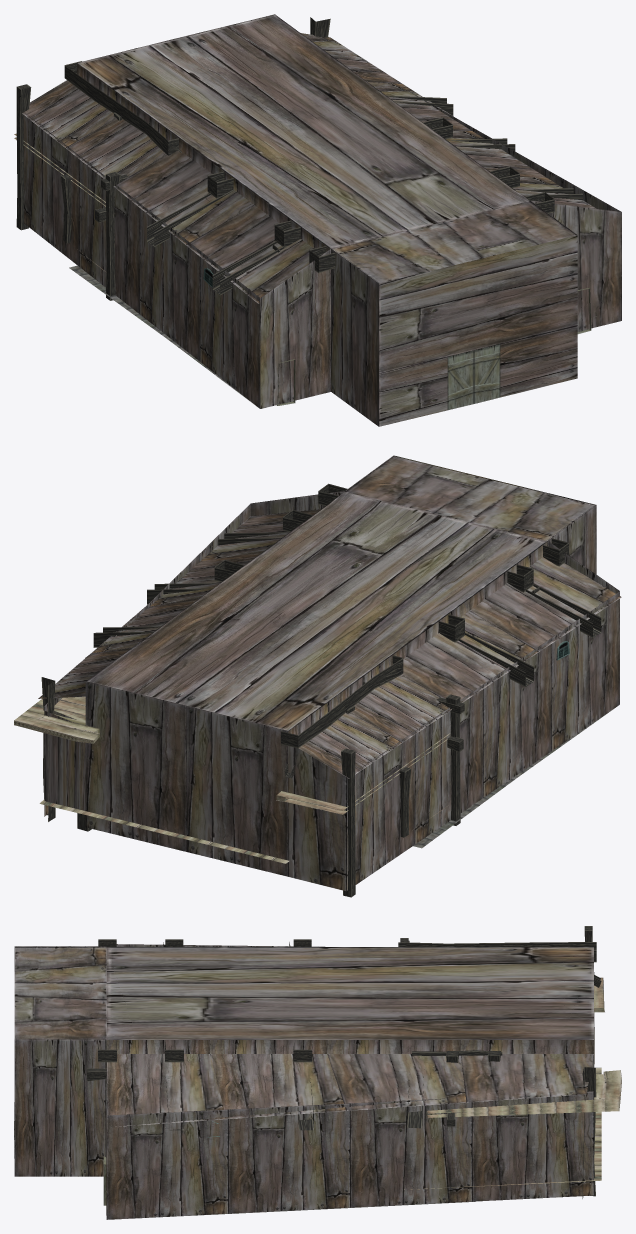
The model's file is interior_shanty_guildhall.fbx.
The picture shows the model from 3 angles, top to bottom: view 1: azimuth 30°, elevation 25°; view 2: azimuth 150°, elevation 25°; view 3: azimuth 270°, elevation 25°; orthographic projection. The views are drawn at different scales.
Parts seen in each view (by area): view 1: ceiling, walls, door_hole, beam14, beam34, beam33, beam17, beam13, beam1, floor, beam38, beam18 (+1 smaller); view 2: ceiling, walls, platform_attic_area, platform_floor_3.001, beam14, beam34, platform_floor_, beam33, beam17, beam13, beam18, beam1 (+4 smaller); view 3: ceiling, walls, platform_floor_3.001, beam14, platform_floor_8, platform_floor_, beam30, beam38, beam1, beam13.
Boxes of the visible parts, <box> form: ceiling: <box>22,15,596,303</box>; walls: <box>23,14,621,426</box>; door_hole: <box>447,344,500,409</box>; beam14: <box>64,61,178,155</box>; beam34: <box>16,84,31,230</box>; beam33: <box>106,172,120,300</box>; beam17: <box>147,189,234,246</box>; beam13: <box>274,166,519,247</box>; beam1: <box>207,117,452,198</box>; floor: <box>69,265,544,420</box>; beam38: <box>309,192,554,272</box>; beam18: <box>212,241,285,295</box>; ceiling: <box>38,456,621,778</box>; walls: <box>44,455,619,891</box>; platform_attic_area: <box>44,710,85,810</box>; platform_floor_3.001: <box>14,696,88,741</box>; beam14: <box>281,655,403,748</box>; beam34: <box>341,748,355,897</box>; platform_floor_: <box>39,799,444,863</box>; beam33: <box>446,694,460,825</box>; beam17: <box>458,632,533,687</box>; beam13: <box>283,510,533,592</box>; beam18: <box>525,584,601,637</box>; beam1: <box>214,559,464,642</box>; ceiling: <box>14,947,593,1127</box>; walls: <box>14,944,594,1219</box>; platform_floor_3.001: <box>426,1077,621,1116</box>; beam14: <box>398,942,596,962</box>; platform_floor_8: <box>427,1107,619,1117</box>; platform_floor_: <box>404,1067,601,1189</box>; beam30: <box>582,1067,596,1198</box>; beam38: <box>98,939,116,1062</box>; beam1: <box>293,939,312,1062</box>; beam13: <box>165,939,183,1062</box>.
Bounding box in the file's own units: 8212 × 3142 × 12100.
4 materials, 4 textured.
